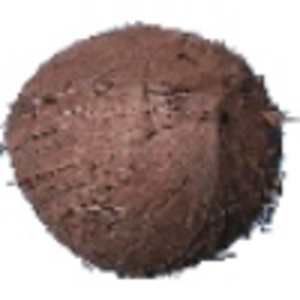coco: (1, 23, 288, 280)
